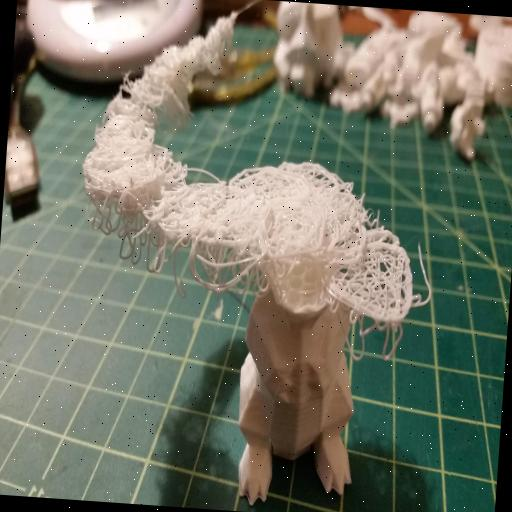spaghetti: (172, 179, 410, 345)
